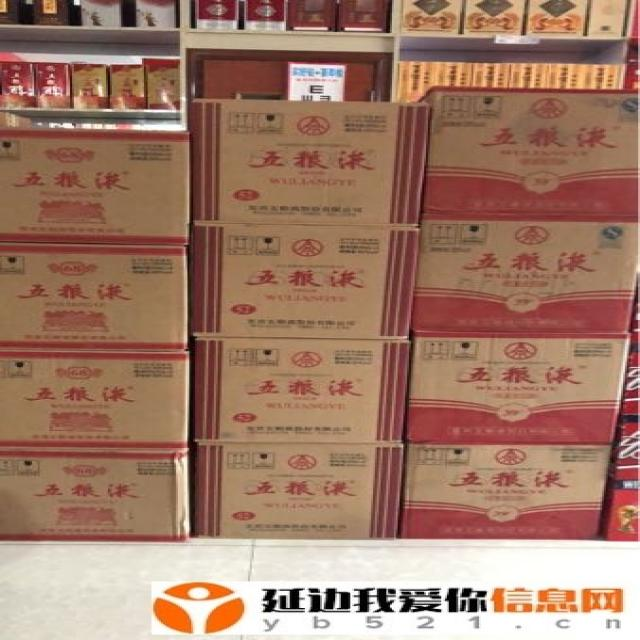box: (188, 98, 433, 226), (409, 87, 638, 213), (187, 220, 420, 339), (408, 212, 638, 332), (406, 332, 633, 444), (188, 336, 412, 443), (0, 129, 189, 243), (189, 441, 406, 540), (400, 443, 610, 539), (0, 243, 187, 350), (0, 349, 190, 447), (0, 444, 189, 542)
